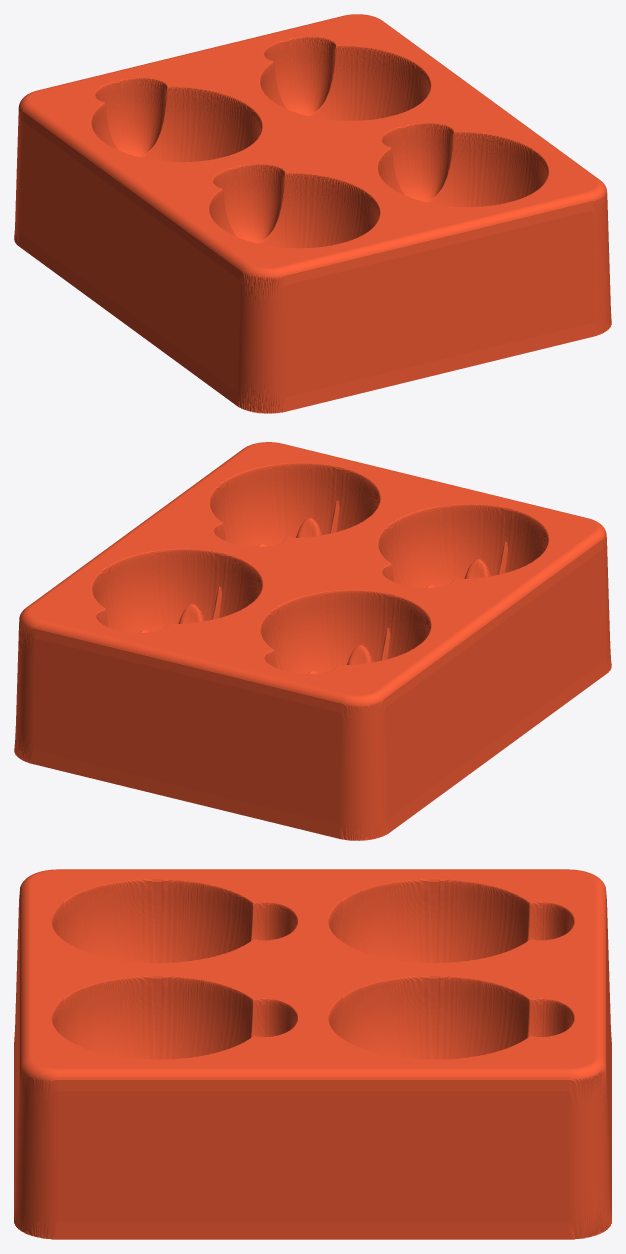
File: mold.glb
3 renders of one model, top to bottom at view 1: azimuth 30°, elevation 25°; view 2: azimuth 150°, elevation 25°; view 3: azimuth 270°, elevation 25°, orthographic. The views are drawn at different scales.
Visible parts, largest first — view 1: geometry_0; view 2: geometry_0; view 3: geometry_0.
Part boxes in pixels (x1=…): geometry_0: x1=14, y1=14, x2=611, y2=413; geometry_0: x1=14, y1=442, x2=611, y2=840; geometry_0: x1=14, y1=869, x2=611, y2=1239.
Bounding box in the file's own units: 0.1049 × 0.0377 × 0.1248.
